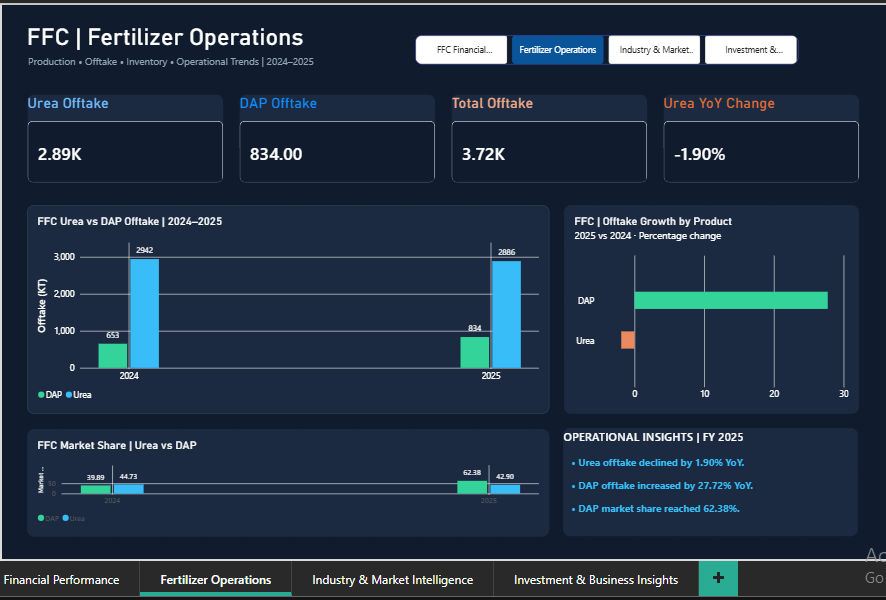

The dashboard page shown, as its layout file describes it:
{"tool":"powerbi","page":{"name":"Fertilizer Operations","canvas":[1440,900],"ordinal":1},"visuals":[{"type":"textbox","title":"FFC | Fertilizer Operations","box":[40,30,850,48],"z":0},{"type":"textbox","box":[42,82,900,30],"z":1000},{"type":"cardVisual","title":"Urea Offtake","fields":{"Data":["public vw_ffc_financial_performance.Urea Offtake (KT)"]},"box":[40,145,320,145],"z":2000},{"type":"cardVisual","title":"DAP Offtake","fields":{"Data":["public vw_ffc_financial_performance.DAP Offtake (KT)"]},"box":[385,145,320,145],"z":2001},{"type":"cardVisual","title":"Total Offtake","fields":{"Data":["public vw_ffc_financial_performance.Total Offtake (KT)"]},"box":[730,145,320,145],"z":2002},{"type":"cardVisual","title":"Urea YoY Change","fields":{"Data":["public vw_ffc_financial_performance.Urea YoY Change (%)"]},"box":[1075,145,320,145],"z":2003},{"type":"clusteredColumnChart","title":"FFC Urea vs DAP Offtake | 2024–2025","fields":{"Category":["public vw_ffc_operations_analytics.year"],"Series":["public vw_ffc_operations_analytics.product"],"Y":["Sum(public vw_ffc_operations_analytics.value)"]},"box":[40,325,850,340],"z":2004},{"type":"clusteredBarChart","title":"FFC | Offtake Growth by Product","fields":{"Category":["public vw_ffc_operations_analytics.product"],"Y":["Sum(public vw_ffc_operations_analytics.yoy_change_pct)"]},"box":[915,325,480,340],"z":2005},{"type":"clusteredColumnChart","title":"FFC Market Share | Urea vs DAP","fields":{"Category":["public vw_ffc_market_share.year"],"Series":["public vw_ffc_market_share.product"],"Y":["Sum(public vw_ffc_market_share.market_share_pct)"]},"box":[40,690,850,175],"z":2006},{"type":"textbox","box":[912,688,480,176],"z":2007},{"type":"pageNavigator","box":[672,48,624,48],"z":2008}]}

Visuals, with their boxes on the page's 1440x900 design canvas (x1, y1, x2, y2). These are canvas units, not pixel positions in the 886x600 screenshot, which may show the page scaled, cropped or inside an application window:
"FFC | Fertilizer Operations" textbox: 40, 30, 890, 78
textbox: 42, 82, 942, 112
"Urea Offtake" cardVisual: 40, 145, 360, 290
"DAP Offtake" cardVisual: 385, 145, 705, 290
"Total Offtake" cardVisual: 730, 145, 1050, 290
"Urea YoY Change" cardVisual: 1075, 145, 1395, 290
"FFC Urea vs DAP Offtake | 2024–2025" clusteredColumnChart: 40, 325, 890, 665
"FFC | Offtake Growth by Product" clusteredBarChart: 915, 325, 1395, 665
"FFC Market Share | Urea vs DAP" clusteredColumnChart: 40, 690, 890, 865
textbox: 912, 688, 1392, 864
pageNavigator: 672, 48, 1296, 96
